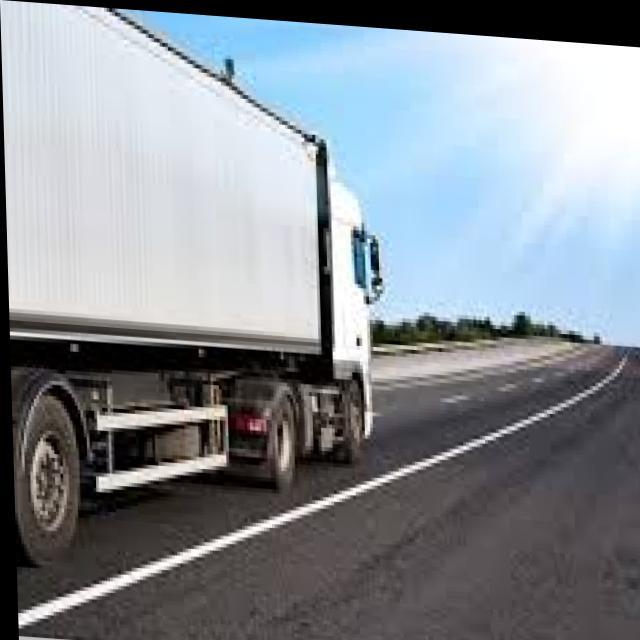covered: (0, 0, 394, 631)
